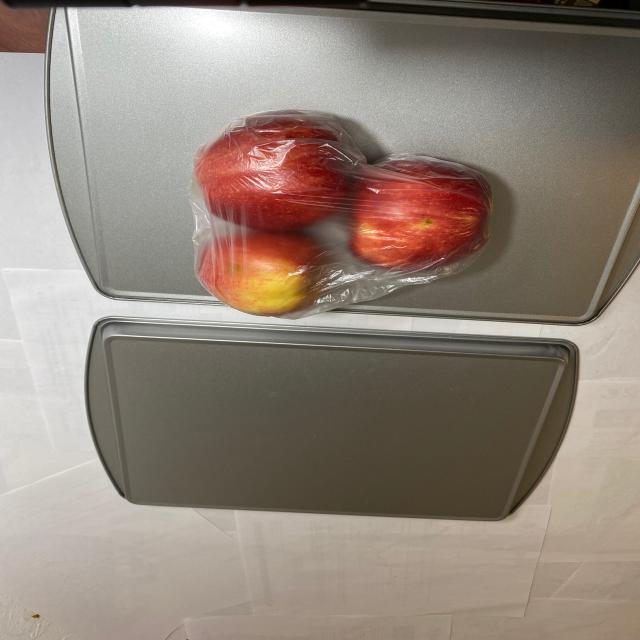apple: (193, 109, 508, 318)
